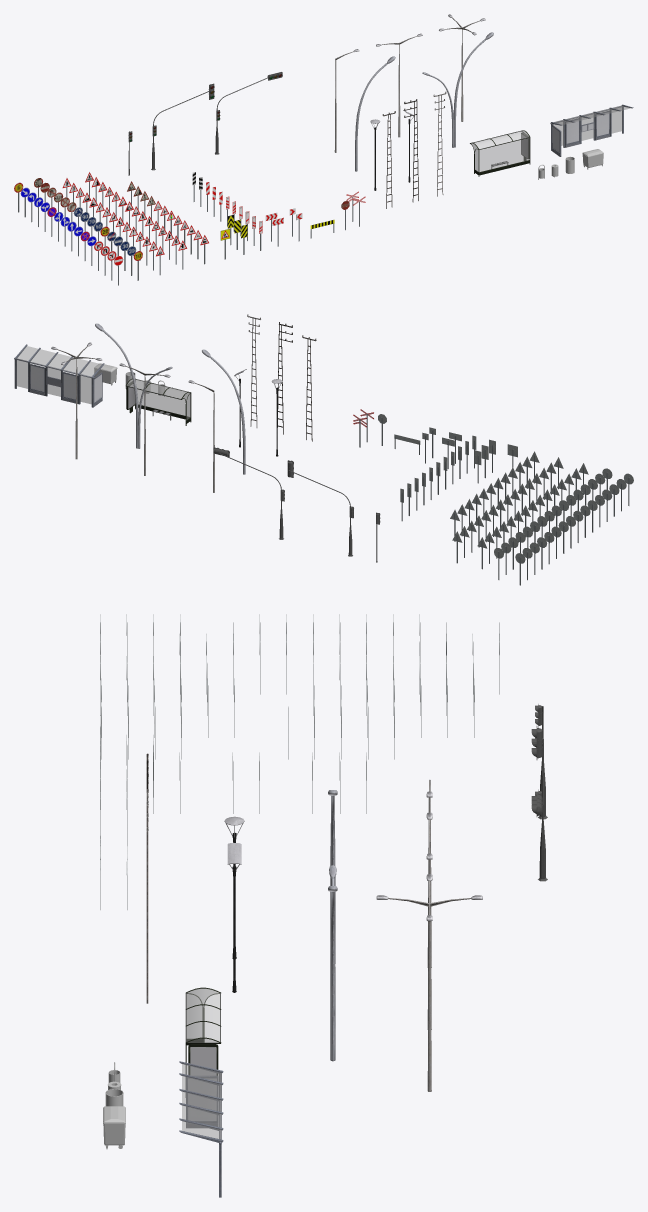
File: environment_units.FBX
3 views of the same model, one above another, from view 1: azimuth 30°, elevation 25°; view 2: azimuth 150°, elevation 25°; view 3: azimuth 270°, elevation 25° (orthographic). The views are drawn at different scales.
Visible parts, largest first — view 1: bus_station_01_01, bus_station_02, bus_station_02_01, bus_station_01, street_lamb_02; view 2: bus_station_02, bus_station_02_01, bus_station_01_01, bus_station_01, street_lamb_02, street_lamb_01, street_lamb_05, electricity_pole_02, electricity_pole_03, traffic_light_tp_02, traffic_light_tp_03; view 3: bus_station_02, bus_station_02_01, bus_station_01_01, bus_station_01, street_lamb_05, street_lamb_02, bin_04.
Boxes of the visible parts, x1,y1,x2,y2 form: bus_station_01_01: (471, 130, 529, 171); bus_station_02: (550, 104, 633, 156); bus_station_02_01: (553, 105, 630, 145); bus_station_01: (470, 130, 530, 176); street_lamb_02: (422, 32, 493, 147); bus_station_02: (14, 344, 104, 407); bus_station_02_01: (16, 346, 101, 403); bus_station_01_01: (126, 379, 190, 419); bus_station_01: (125, 378, 191, 425); street_lamb_02: (95, 323, 172, 448); street_lamb_01: (202, 349, 245, 474); street_lamb_05: (51, 342, 101, 459); electricity_pole_02: (277, 322, 292, 434); electricity_pole_03: (247, 314, 260, 427); traffic_light_tp_02: (287, 460, 353, 556); traffic_light_tp_03: (213, 447, 284, 539); bus_station_02: (179, 1061, 223, 1197); bus_station_02_01: (182, 1064, 221, 1139); bus_station_01_01: (185, 988, 220, 1042); bus_station_01: (185, 987, 221, 1097); street_lamb_05: (376, 874, 482, 1091); street_lamb_02: (328, 865, 337, 1061); bin_04: (103, 1106, 125, 1149).
Bounding box in the file's own units: 7516 × 1400 × 2698.
